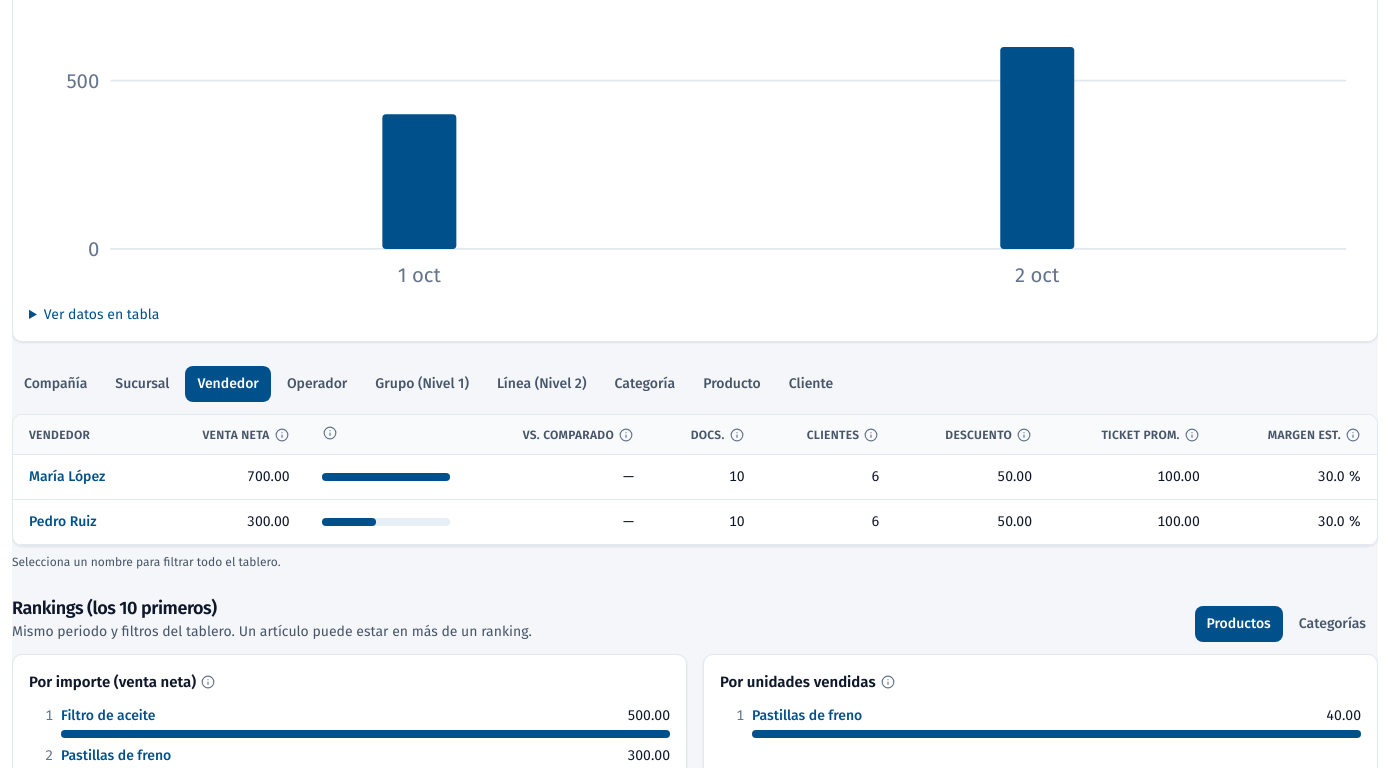
Test: dashboard de ventas › cambia de dimensión y avisa del recorte y de las facturas repetidas entre grupos
(page scrolled)
Click the tab "Producto".
click(732, 384)  # box top-left (691, 366), bottom-right (773, 402)
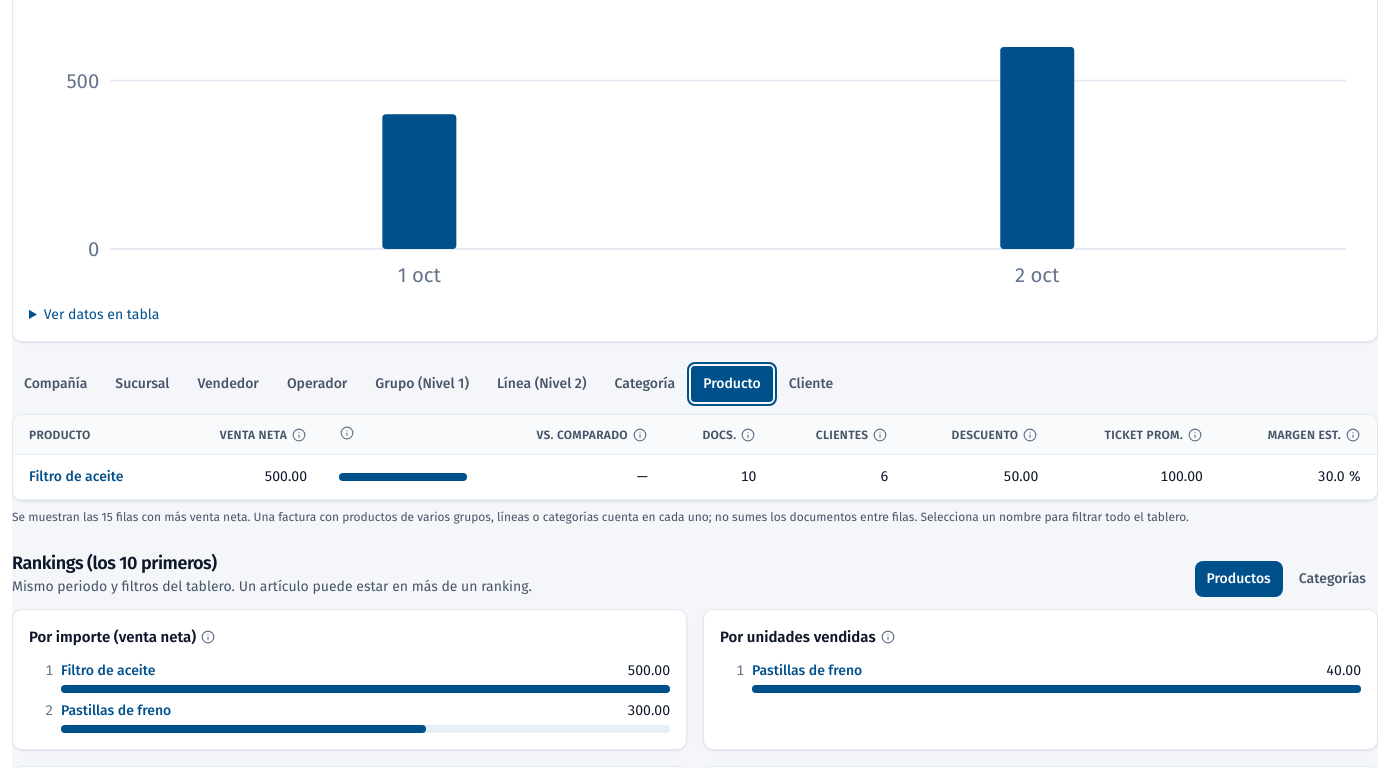
Result: the 1st button "Filtro de aceite" is shown at top-left (29, 467), bottom-right (124, 487)
Result: the text "Se muestran las 15 filas con más venta neta" is shown at top-left (12, 510), bottom-right (254, 524)
Result: the text "no sumes los documentos entre filas" is shown at top-left (254, 510), bottom-right (920, 524)
